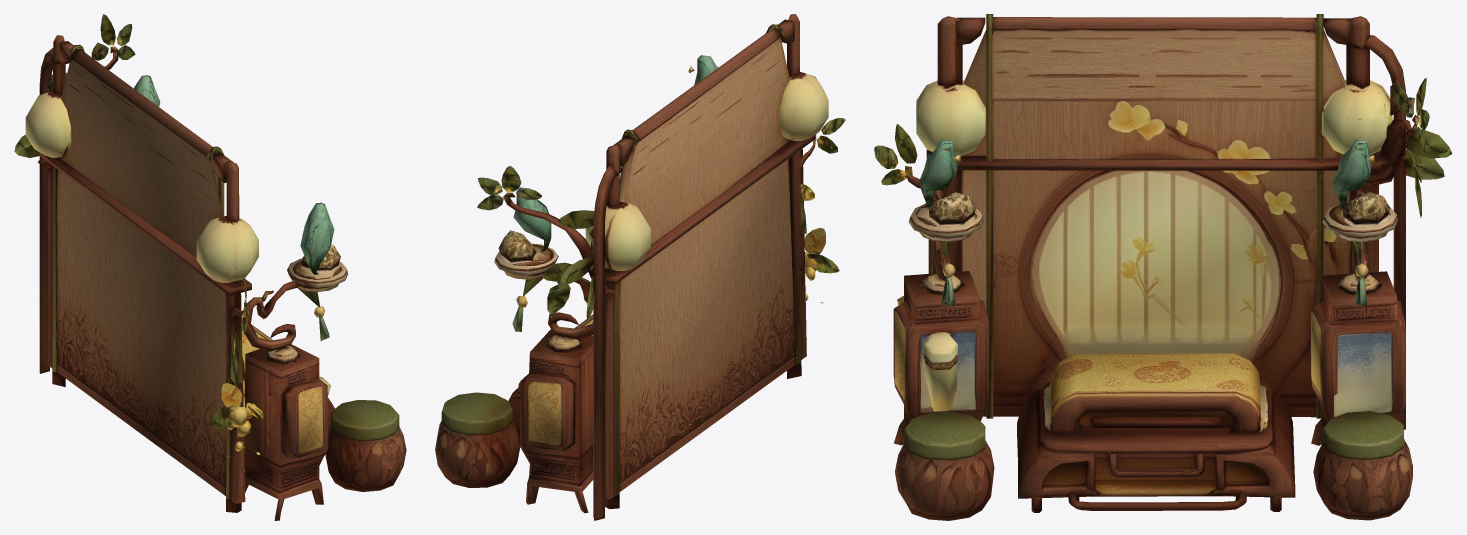
The model's file is 装饰墙.fbx.
3 renders of one model, left to right at view 1: azimuth 30°, elevation 25°; view 2: azimuth 150°, elevation 25°; view 3: azimuth 270°, elevation 25°, orthographic. The views are drawn at different scales.
Visible parts, largest first — view 1: tripo_node_7bb2480b; view 2: tripo_node_7bb2480b; view 3: tripo_node_7bb2480b.
Boxes of the visible parts, bbox=[...] form: tripo_node_7bb2480b: bbox=[14, 14, 406, 520]; tripo_node_7bb2480b: bbox=[435, 14, 845, 520]; tripo_node_7bb2480b: bbox=[874, 14, 1452, 520].
Bounding box in the file's own units: 47.46 × 99.8 × 79.1.
Materials: 1 (1 with a texture image).
